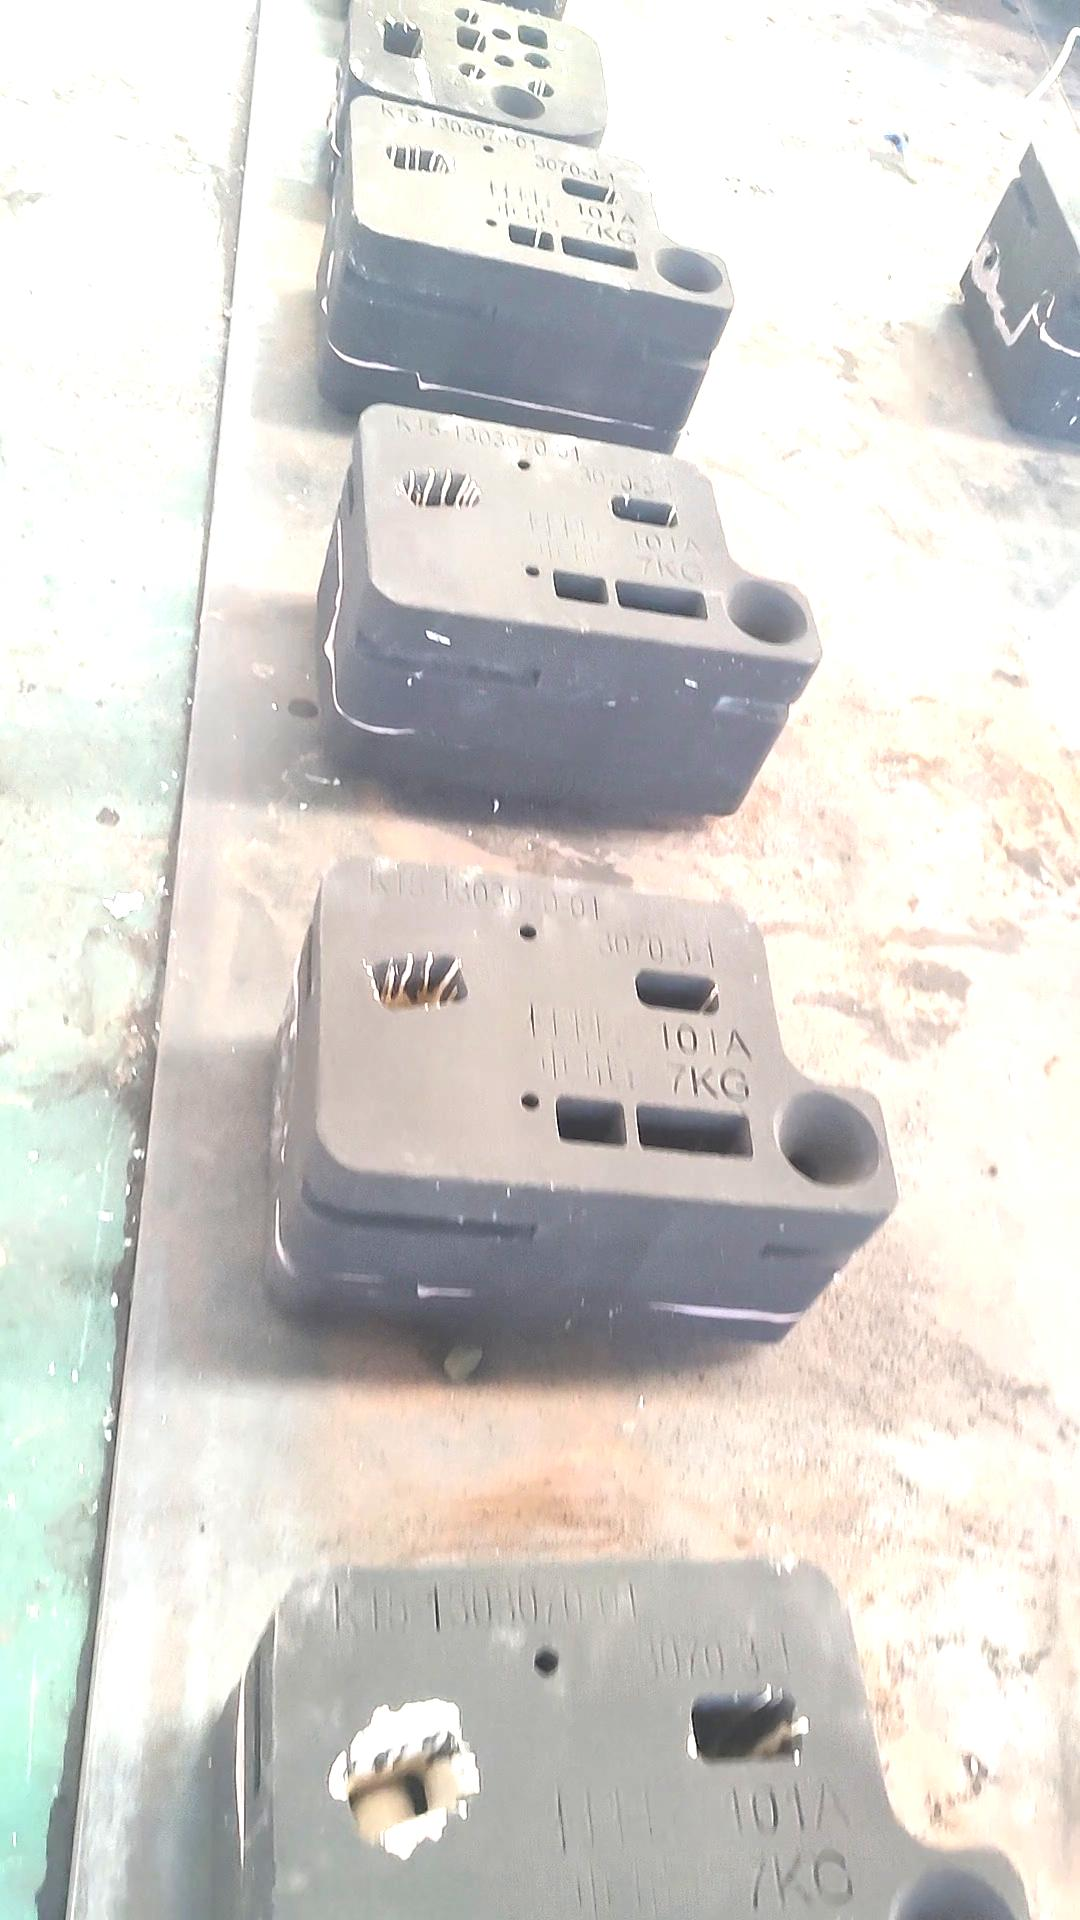pouring hole: (775, 1091, 878, 1187), (899, 1865, 1015, 1920), (723, 578, 808, 645), (653, 247, 723, 294), (488, 84, 547, 121)
